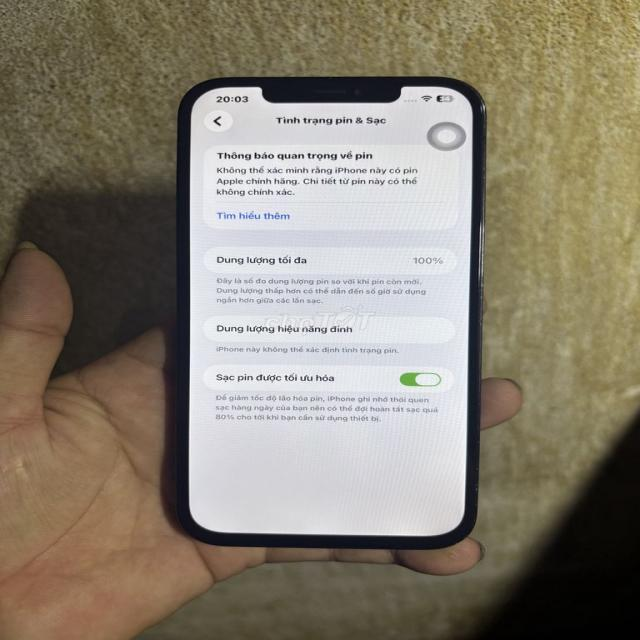gen_12_13: (163, 70, 479, 564)
